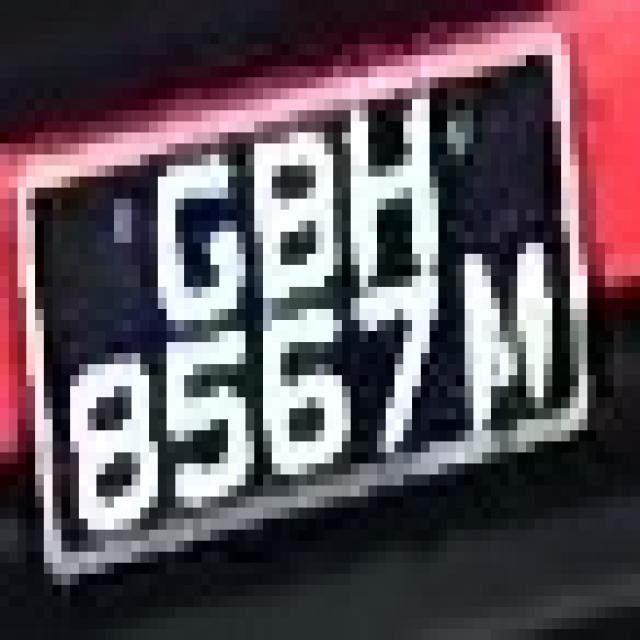5: (158, 320, 263, 530)
6: (246, 287, 350, 496)
7: (333, 232, 447, 474)
8: (44, 342, 158, 563)
B: (228, 121, 342, 320)
G: (122, 121, 236, 342)
H: (325, 77, 447, 276)
M: (447, 221, 570, 441)
